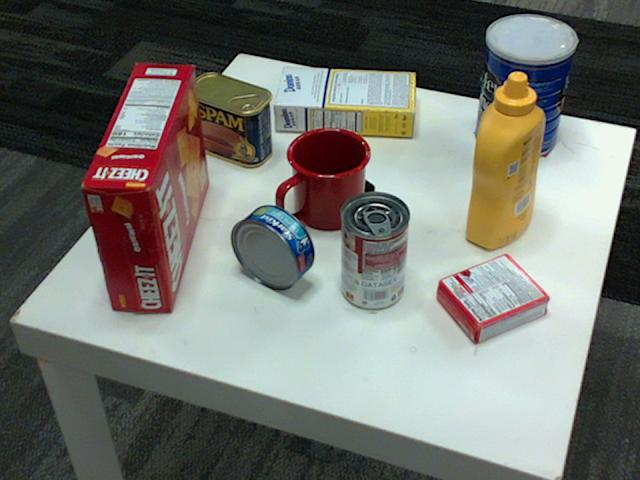cracker_box: (80, 60, 209, 309)
gelatin_box: (435, 254, 550, 344)
large_marker: (305, 140, 373, 197)
master_chef_can: (474, 15, 575, 159)
mug: (279, 125, 372, 227)
mustard_bottle: (464, 72, 545, 248)
potted_meat_can: (184, 74, 273, 166)
sugar_box: (274, 66, 417, 136)
tomato_soup_can: (340, 191, 410, 310)
tuna_fish_can: (232, 205, 315, 290)
